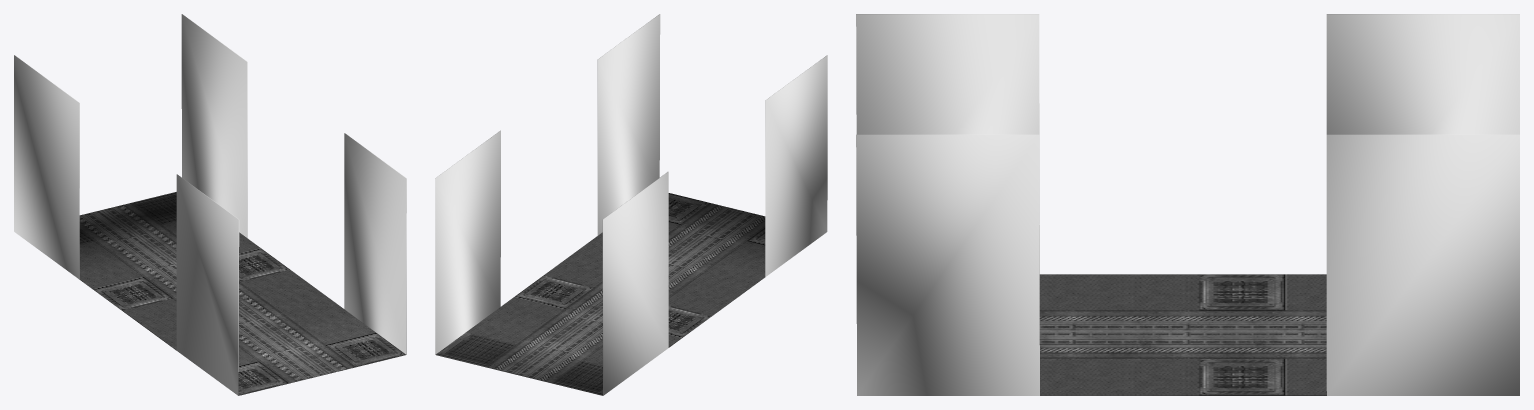
Rendered from corridor_x_shape.fbx.
3 views of the same model, side by side, from view 1: azimuth 30°, elevation 25°; view 2: azimuth 150°, elevation 25°; view 3: azimuth 270°, elevation 25° (orthographic). The views are drawn at different scales.
Parts seen in each view (by area): view 1: corridor_x_shape; view 2: corridor_x_shape; view 3: corridor_x_shape.
Boxes of the visible parts, x1=… form: corridor_x_shape: x1=14, y1=14, x2=406, y2=395; corridor_x_shape: x1=435, y1=14, x2=827, y2=395; corridor_x_shape: x1=856, y1=14, x2=1519, y2=395.
Bounding box in the file's own units: 362 × 364 × 838.
